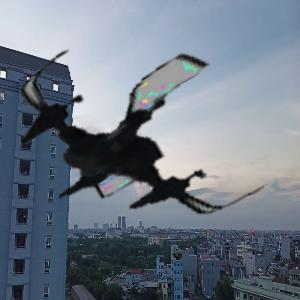drone: (21, 12, 264, 255)
